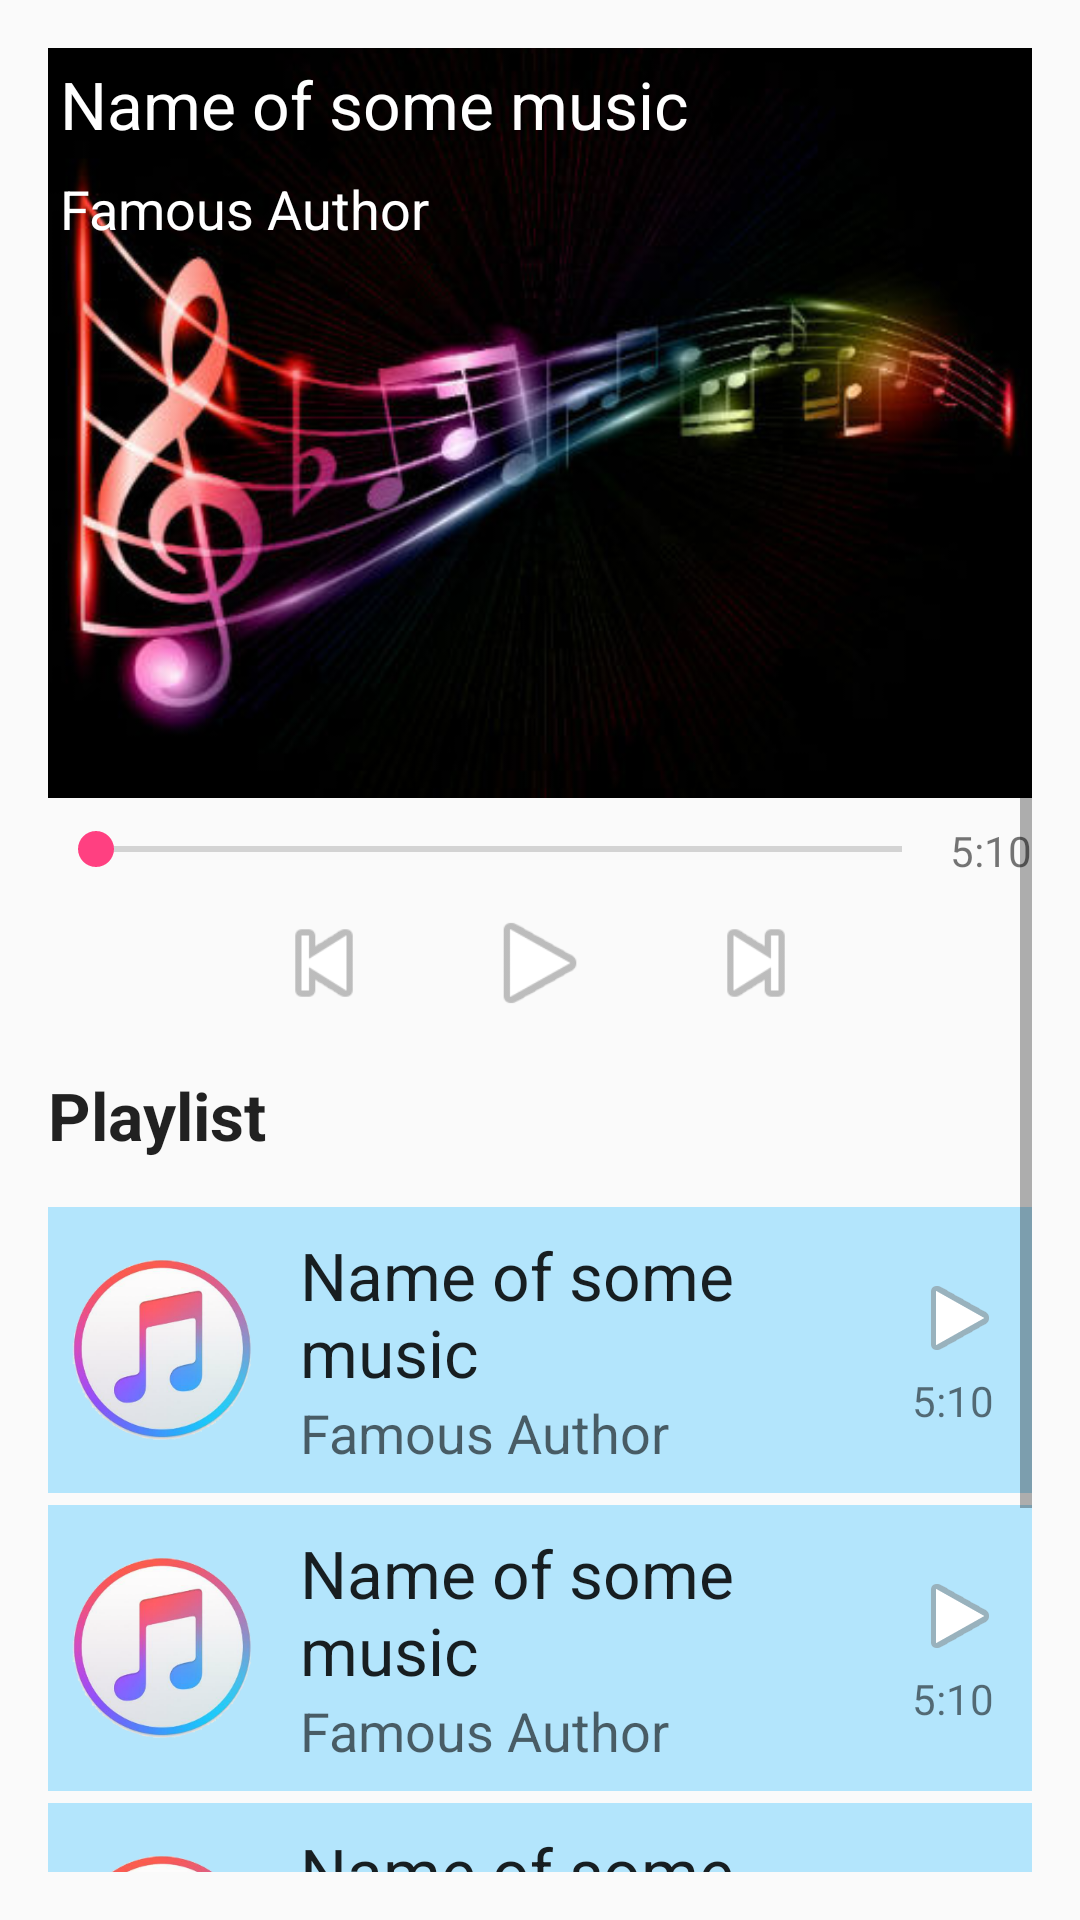

Screen size 1080 × 1920. Icon name, then its center in pixels as (x,y):
next: (756,963)
previous: (324,963)
